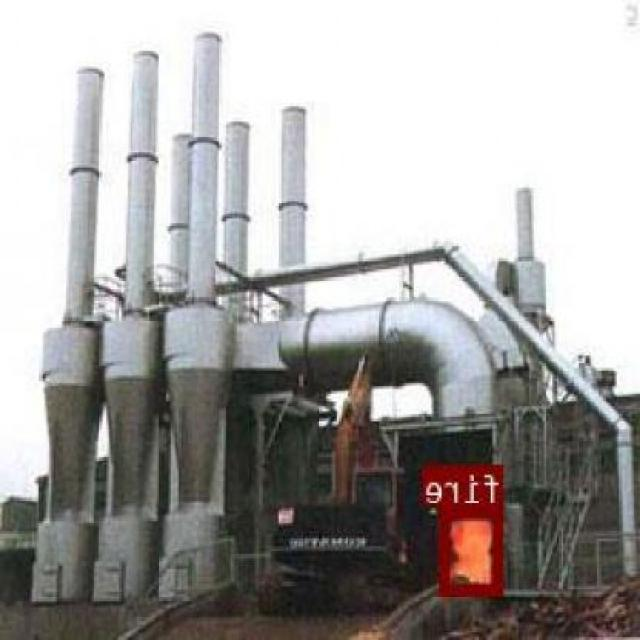Fire: (442, 503, 506, 592)
